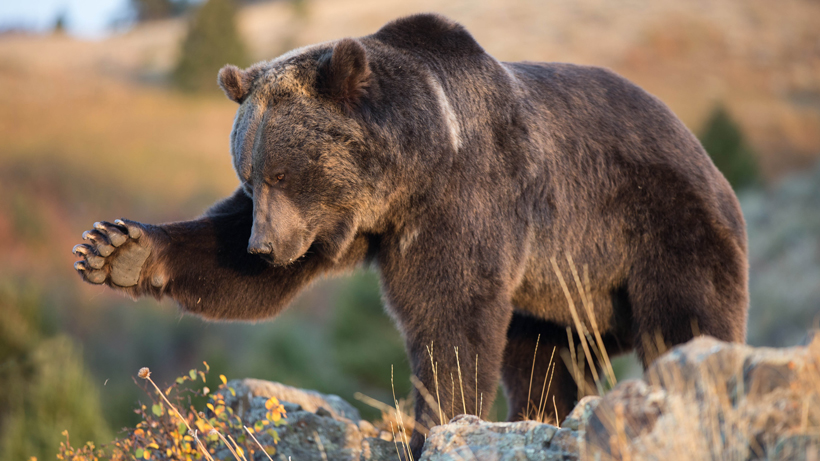bear: (215, 35, 378, 270)
